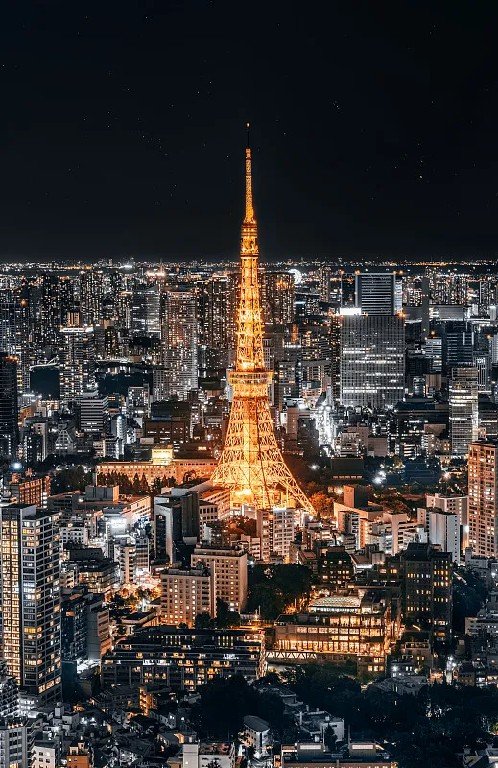Tokyo: (207, 116, 319, 522)
